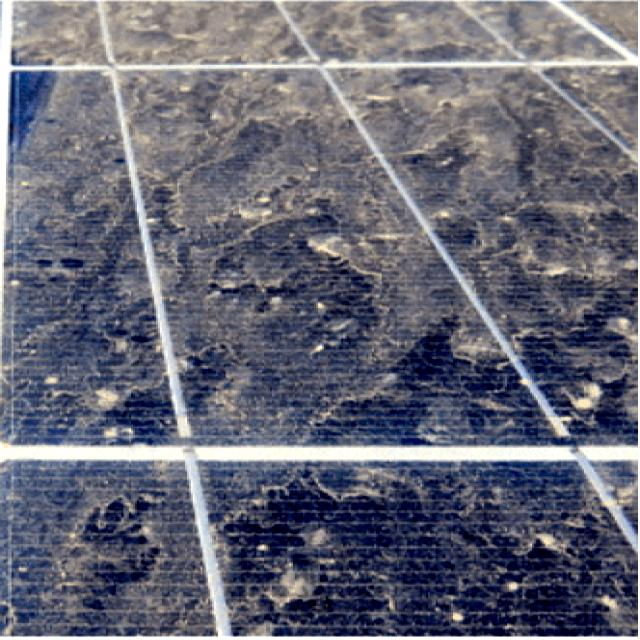dust: (124, 76, 366, 442), (420, 72, 640, 442), (220, 462, 620, 640), (0, 70, 103, 440), (6, 464, 202, 636), (5, 8, 295, 64), (328, 4, 640, 54)
